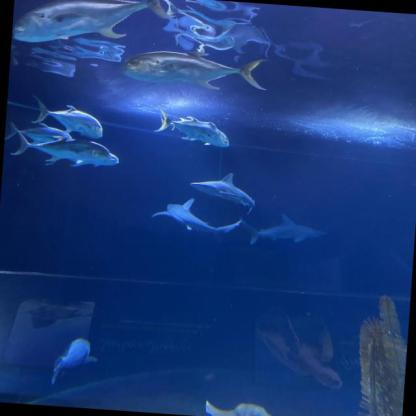fish: (8, 125, 112, 166), (28, 97, 108, 138), (46, 333, 104, 385), (151, 112, 222, 144), (174, 116, 237, 152), (56, 143, 126, 171), (15, 120, 79, 145)
shark: (146, 196, 242, 237), (186, 164, 263, 210), (243, 210, 330, 247)
